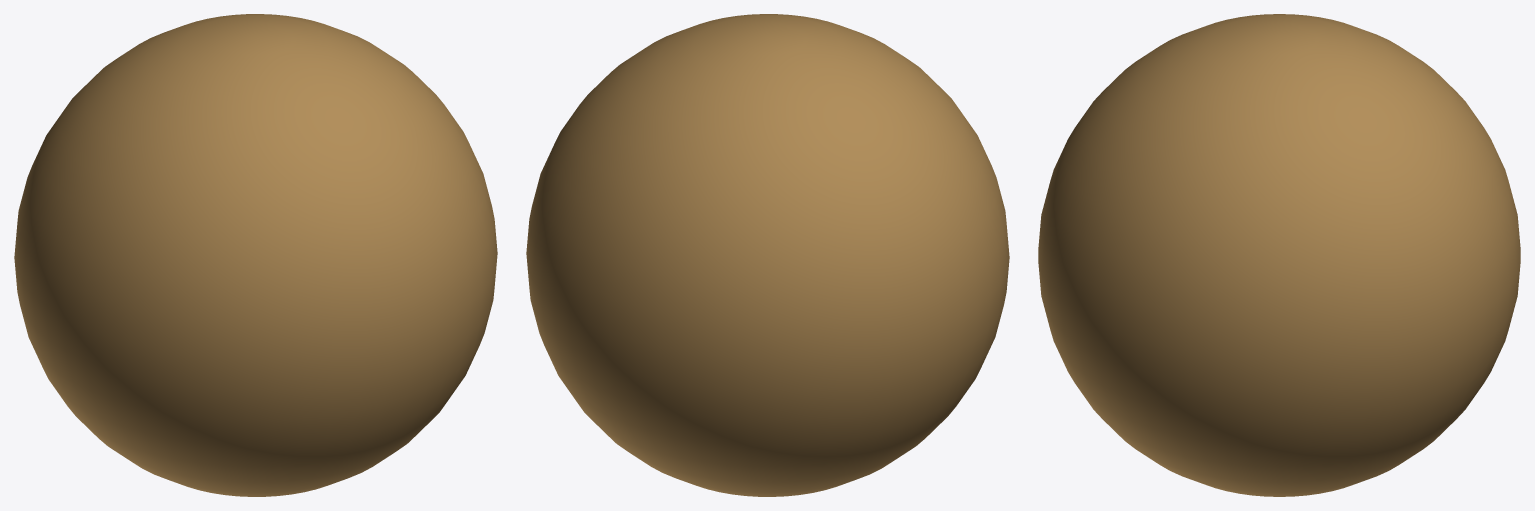
The model's file is Ball.fbx.
3 views of the same model, side by side, from view 1: azimuth 30°, elevation 25°; view 2: azimuth 150°, elevation 25°; view 3: azimuth 270°, elevation 25° (orthographic).
Parts seen in each view (by area): view 1: pSphere2; view 2: pSphere2; view 3: pSphere2.
Boxes of the visible parts, left/top/right/bottom form: pSphere2: left=14, top=14, right=497, bottom=496; pSphere2: left=526, top=14, right=1009, bottom=496; pSphere2: left=1038, top=14, right=1520, bottom=496.
Size of the model in its own units: 26 by 26 by 25.95.
